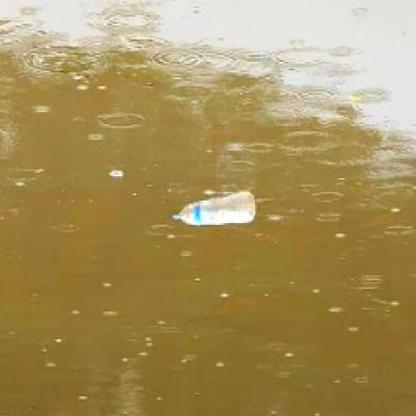plastic bottle: (168, 192, 255, 224)
